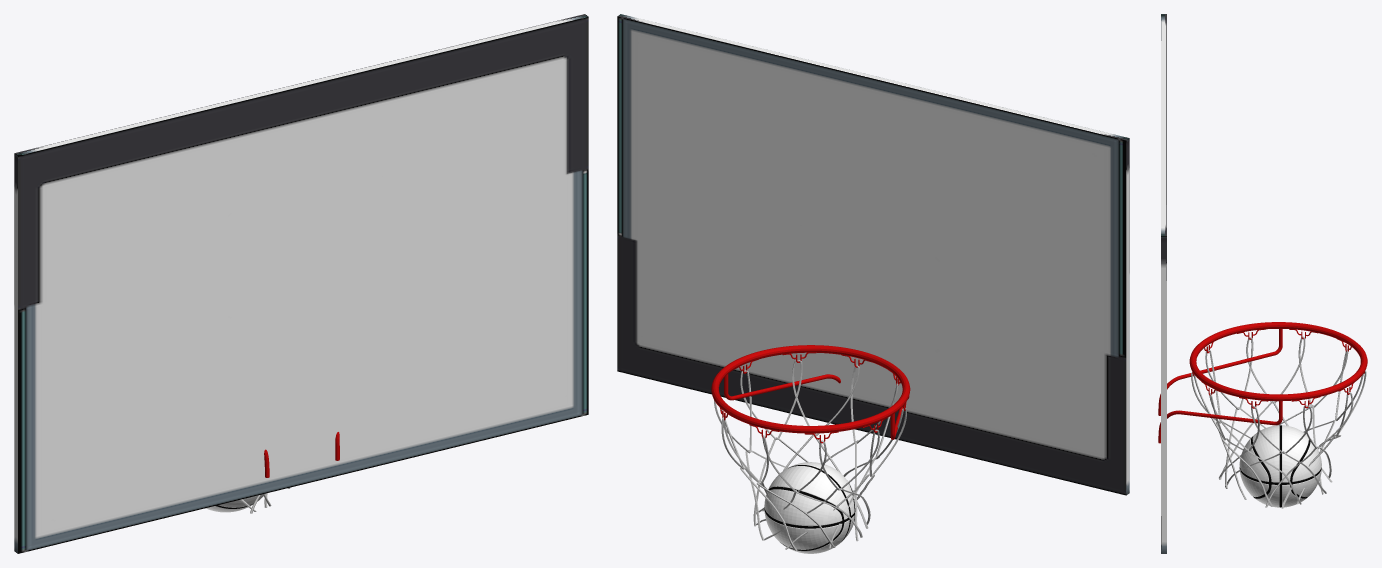
Rendered from GameObject.fbx.
3 renders of one model, left to right at view 1: azimuth 30°, elevation 25°; view 2: azimuth 150°, elevation 25°; view 3: azimuth 270°, elevation 25°, orthographic. The views are drawn at different scales.
Visible parts, largest first — view 1: Board__1_; view 2: Board__1_, Basketball__1_, GoalNet__1_, GoalHoop__1_; view 3: Basketball__1_, GoalHoop__1_, GoalNet__1_, Board__1_.
Part boxes in pixels (left/top/right/bottom): Board__1_: left=14, top=14, right=588, bottom=553; Board__1_: left=617, top=14, right=1129, bottom=495; Basketball__1_: left=764, top=462, right=855, bottom=553; GoalNet__1_: left=714, top=360, right=906, bottom=550; GoalHoop__1_: left=711, top=345, right=910, bottom=443; Basketball__1_: left=1239, top=425, right=1321, bottom=507; GoalHoop__1_: left=1158, top=322, right=1367, bottom=443; GoalNet__1_: left=1191, top=336, right=1366, bottom=508; Board__1_: left=1161, top=14, right=1166, bottom=553.
Bounding box in the file's own units: 270 × 215 × 107.
Materials: 5 (1 with a texture image).
